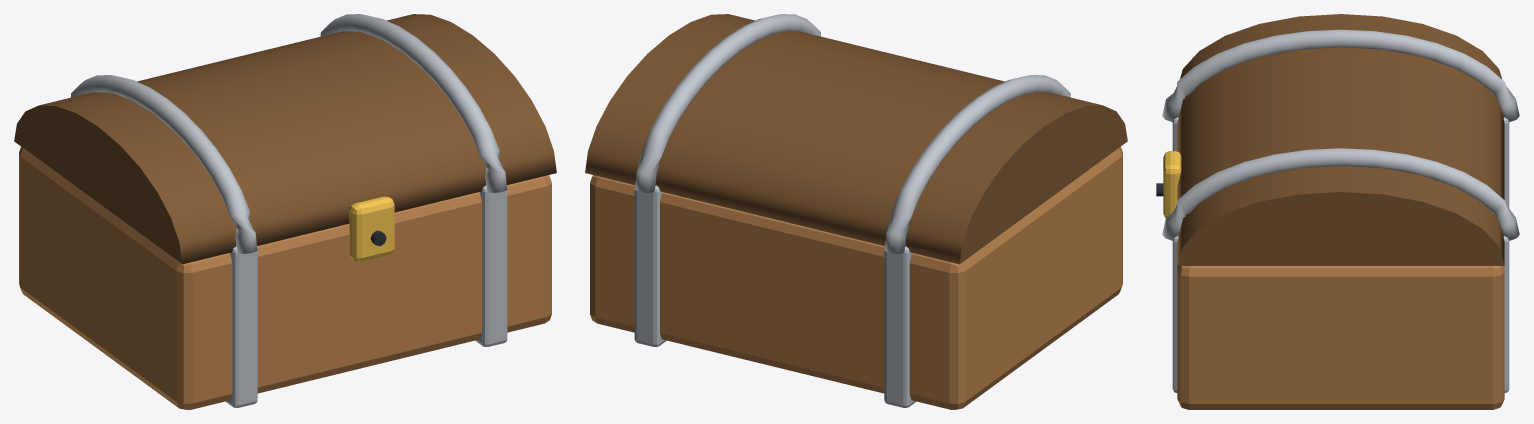
The model's file is bau.glb.
3 renders of one model, left to right at view 1: azimuth 30°, elevation 25°; view 2: azimuth 150°, elevation 25°; view 3: azimuth 270°, elevation 25°, orthographic. The views are drawn at different scales.
Visible parts, largest first — view 1: bau; view 2: bau; view 3: bau.
Part boxes in pixels (x1,y1,x2,y2): bau: [14, 14, 556, 409]; bau: [585, 14, 1127, 409]; bau: [1156, 14, 1519, 409].
Size of the model in its own units: 1.8 by 1.13 by 1.55.
